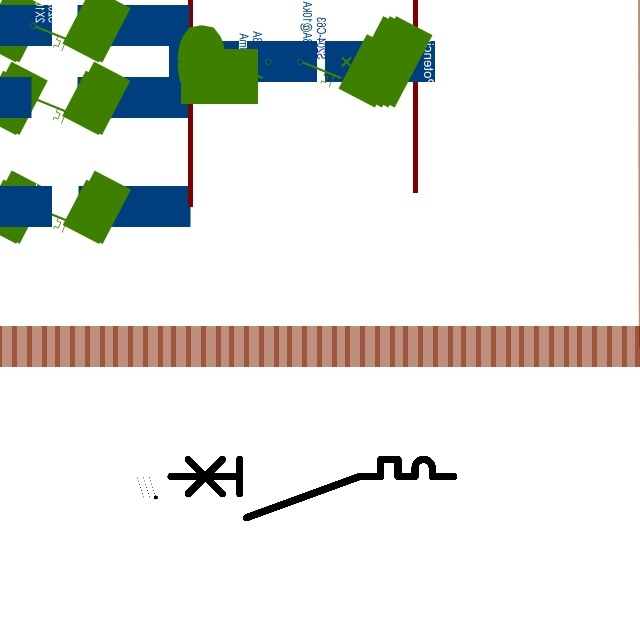interruptor_termomagnetico: (163, 452, 460, 524)
